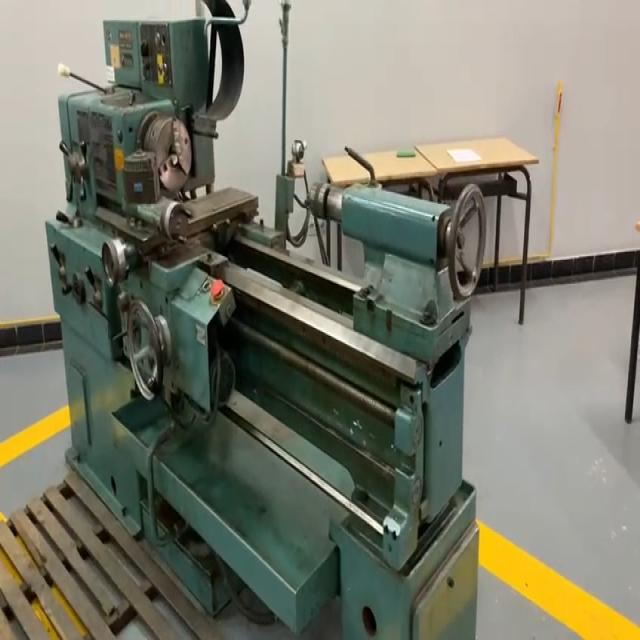tour parallele: (45, 0, 488, 640)
